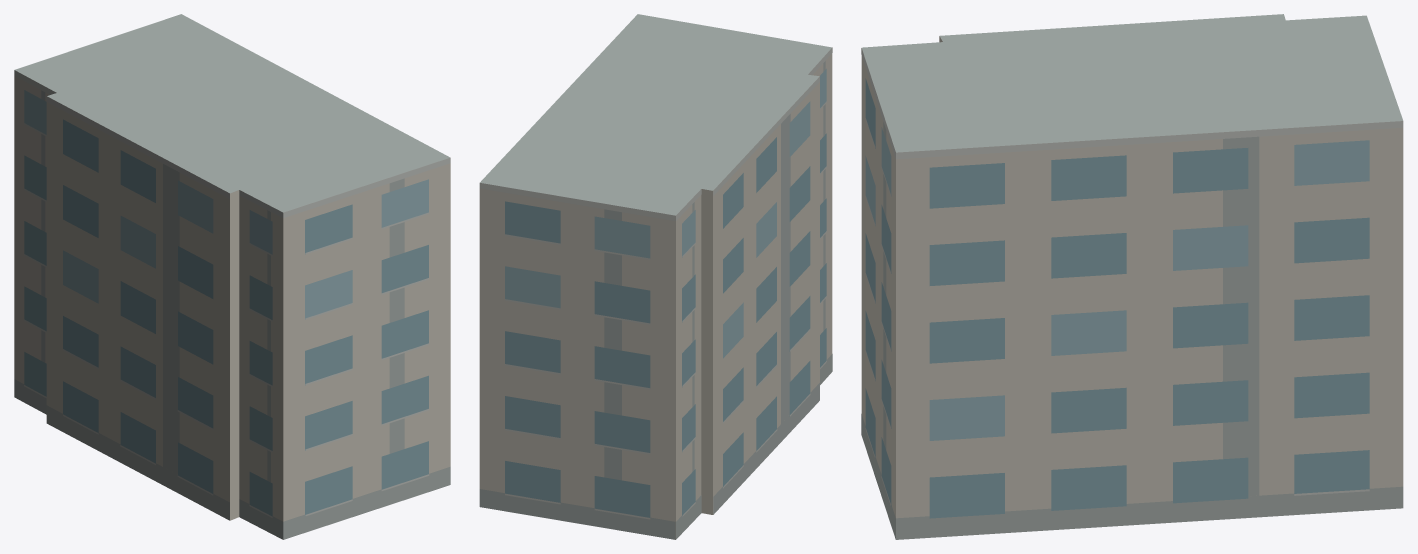
The model's file is survey-upis-32958584.glb.
3 views of the same model, side by side, from view 1: azimuth 30°, elevation 25°; view 2: azimuth 150°, elevation 25°; view 3: azimuth 270°, elevation 25° (orthographic). The views are drawn at different scales.
Parts seen in each view (by area): view 1: survey-upis-32958584.tmp; view 2: survey-upis-32958584.tmp; view 3: survey-upis-32958584.tmp.
Part boxes in pixels (bbox=[...]): survey-upis-32958584.tmp: bbox=[14, 14, 450, 539]; survey-upis-32958584.tmp: bbox=[479, 14, 832, 539]; survey-upis-32958584.tmp: bbox=[861, 14, 1403, 539].
Bounding box in the file's own units: 10.75 × 14 × 17.76.
